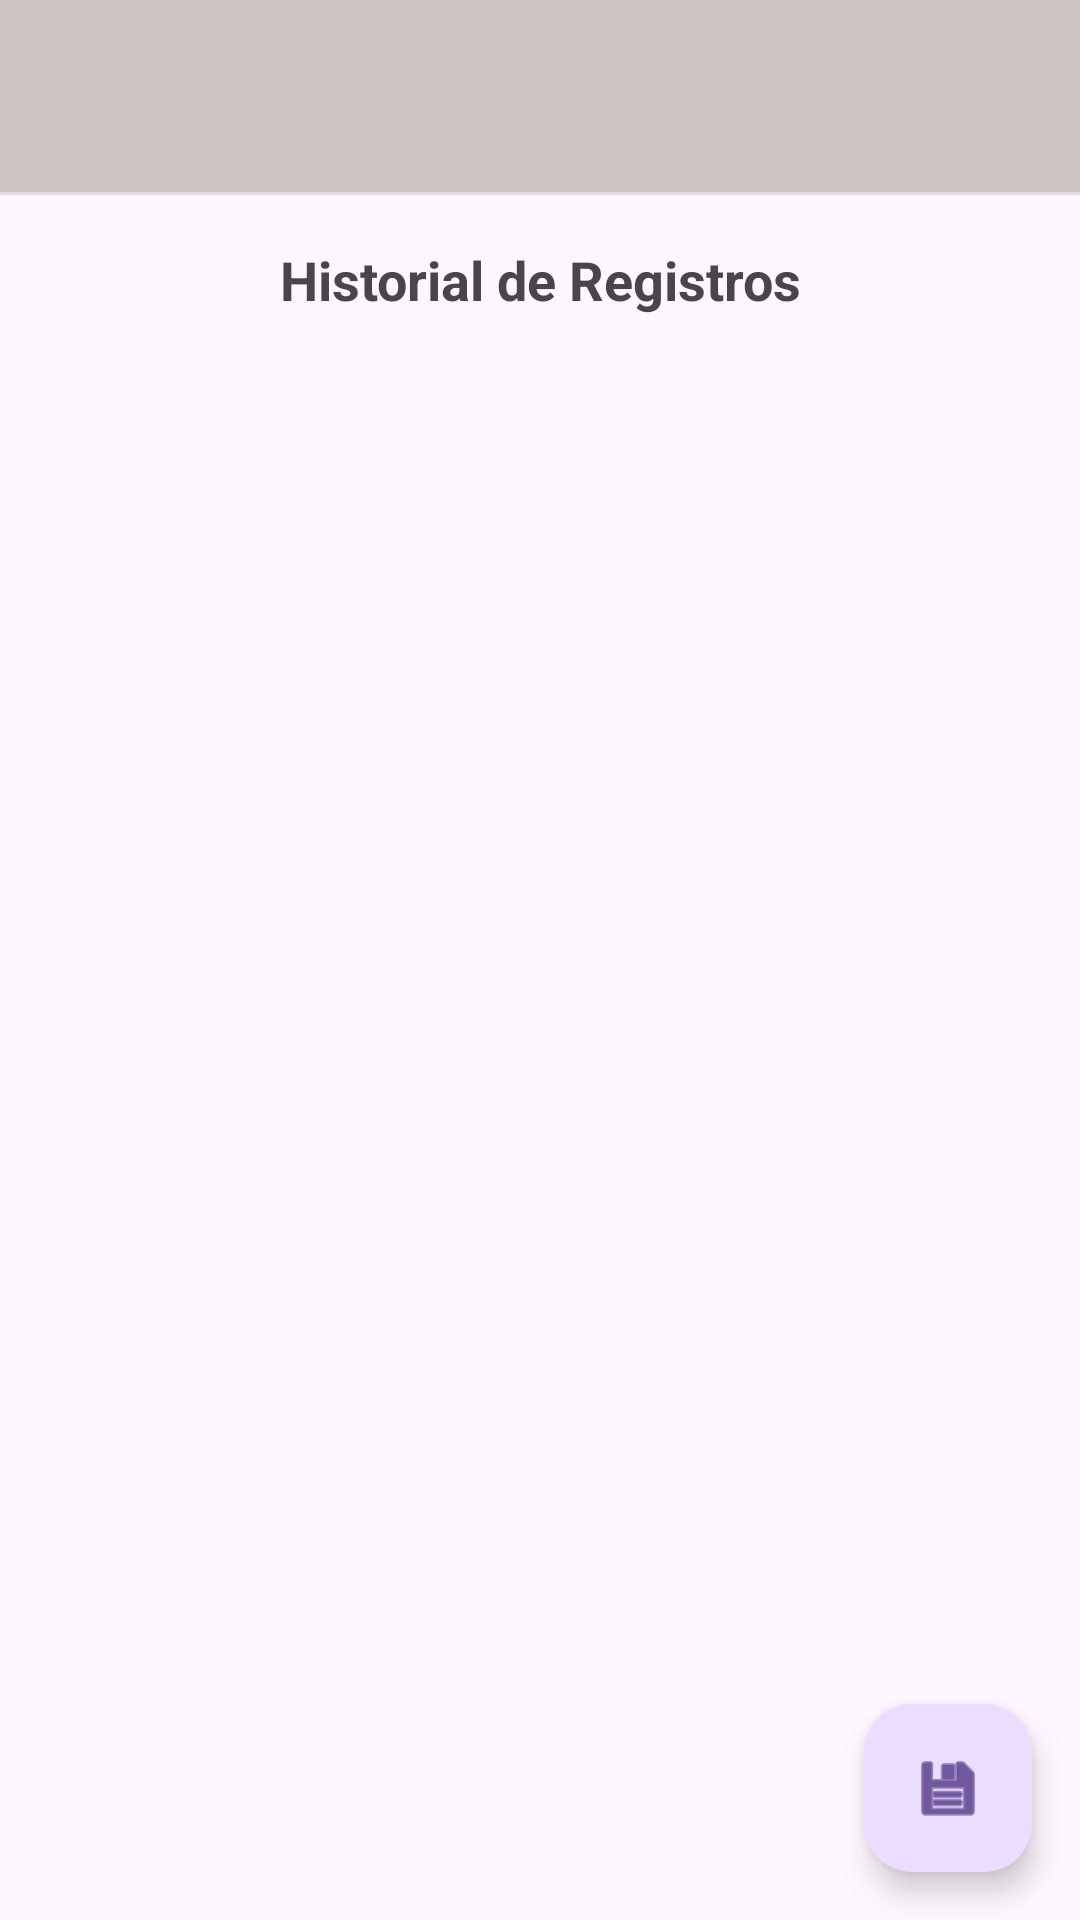

Point at icon controls on the screen. Image size 1080x1920, points as point (x, y).
Guardar cambios: point (948, 1788)
